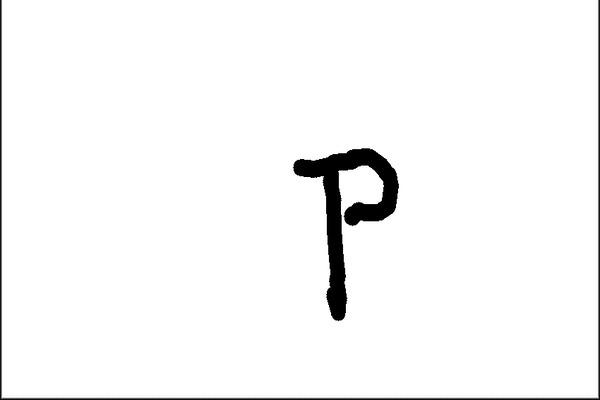P: (288, 136, 412, 328)
